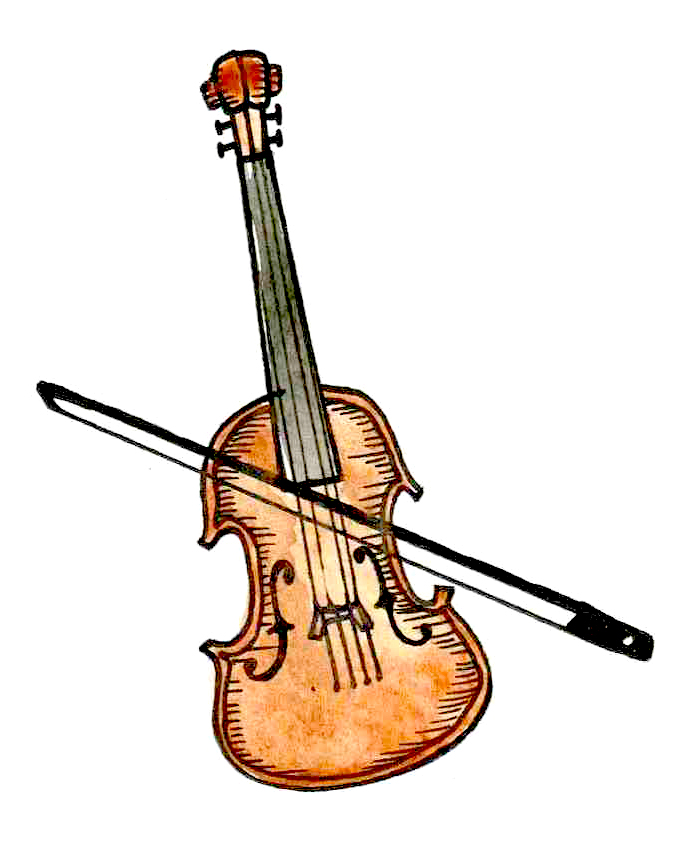Fiddle: (83, 79, 633, 784)
